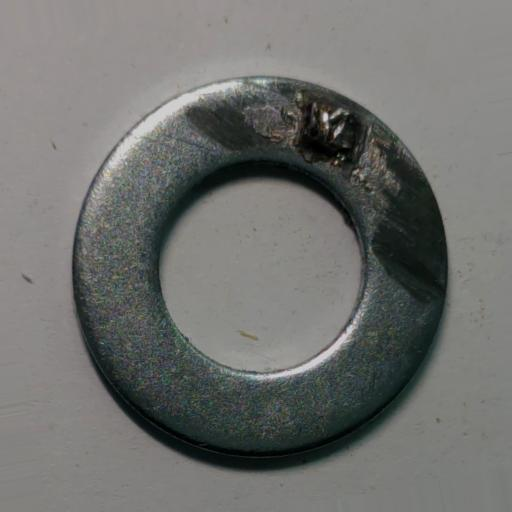excess_material: (296, 100, 357, 165)
